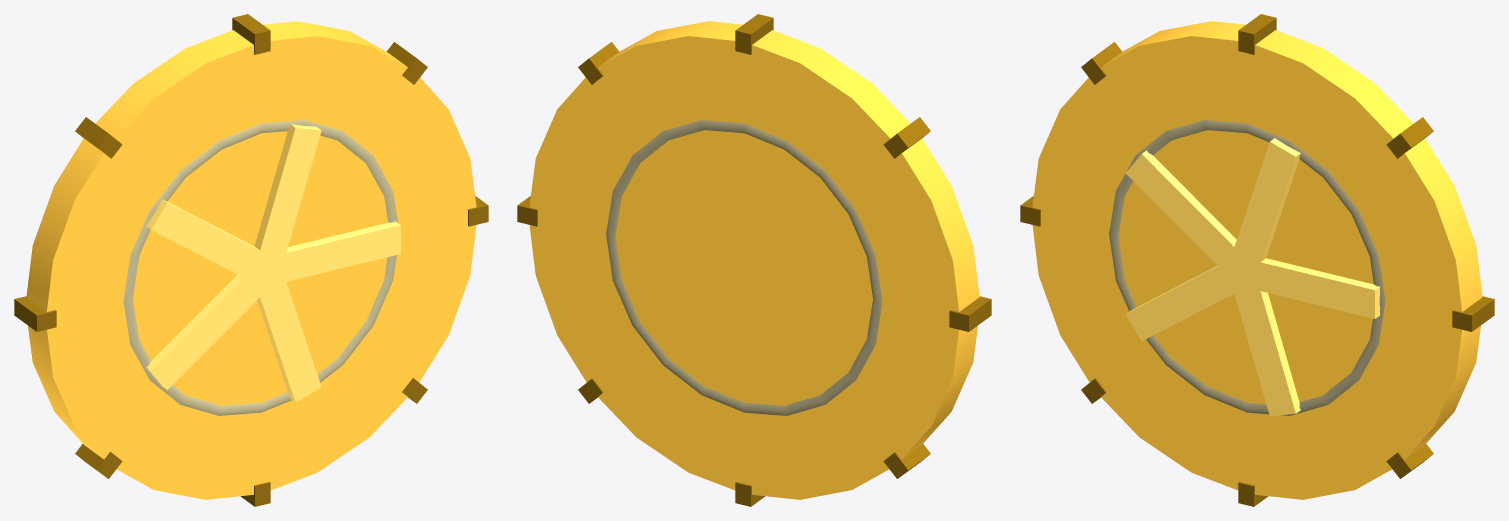
File: coin.glb
3 views of the same model, side by side, from view 1: azimuth 30°, elevation 25°; view 2: azimuth 150°, elevation 25°; view 3: azimuth 330°, elevation 25° (orthographic).
Bounding box in the file's own units: 1.15 × 1.15 × 0.12.
